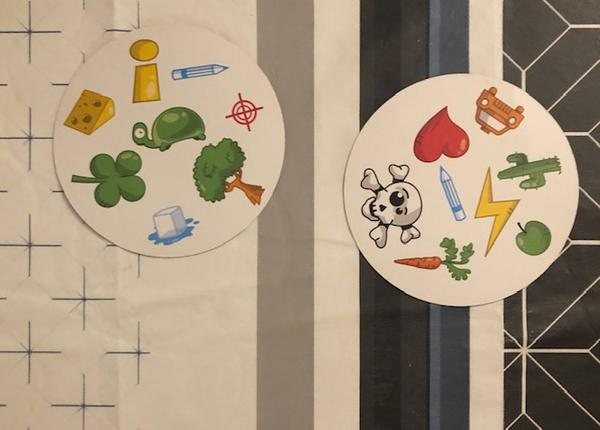arbre: (192, 136, 273, 212)
cactus: (491, 149, 558, 194)
carotte: (390, 235, 475, 283)
cible: (223, 87, 264, 133)
coeur: (411, 105, 471, 164)
crayon: (169, 54, 235, 84), (438, 163, 467, 221)
eclair: (467, 165, 524, 256)
fromage: (61, 87, 119, 136)
glacon: (144, 200, 203, 251)
point_exclamation: (127, 37, 164, 103)
pomme: (510, 212, 553, 258)
tete_mort: (345, 157, 426, 249)
tortue: (126, 103, 216, 153)
trefle: (66, 148, 146, 210)
voiture: (470, 83, 528, 141)
